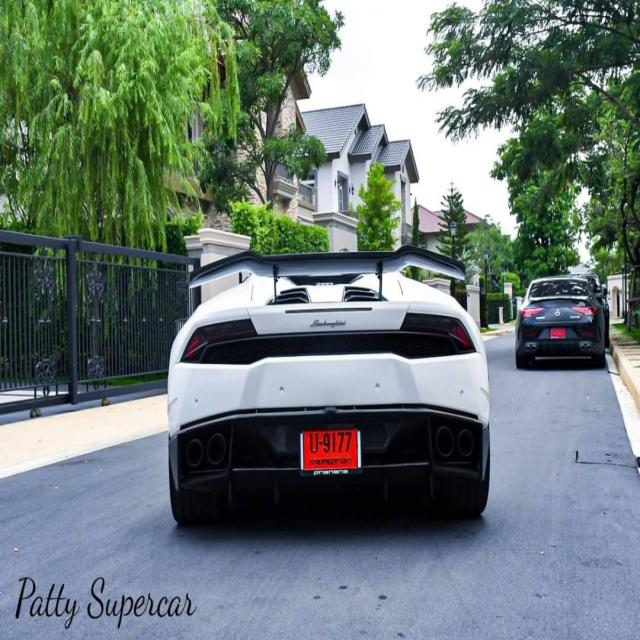license_plate: (300, 425, 362, 470), (550, 326, 566, 341)
